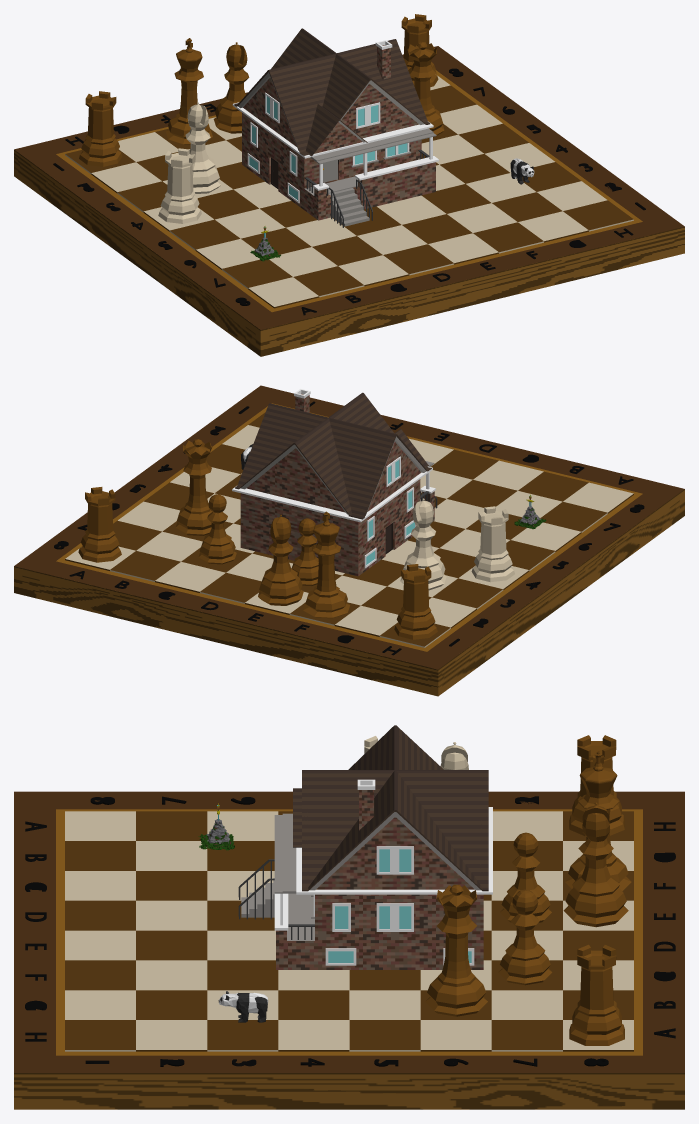
3 renders of one model, top to bottom at view 1: azimuth 30°, elevation 25°; view 2: azimuth 150°, elevation 25°; view 3: azimuth 270°, elevation 25°, orthographic. The views are drawn at different scales.
Visible parts, largest first — view 1: Cube.002, Cube.117; view 2: Cube.002, Cube.117; view 3: Cube.002, Cube.117, ANIMAL_PANDA, OBJRANDOM_SWORD_IN_THE_STONE.
Boxes of the visible parts, x1,y1,x2,y2 form: Cube.002: [14, 14, 684, 356]; Cube.117: [232, 28, 438, 227]; Cube.002: [14, 385, 684, 696]; Cube.117: [232, 389, 437, 576]; Cube.002: [14, 735, 684, 1109]; Cube.117: [238, 725, 492, 969]; ANIMAL_PANDA: [218, 991, 268, 1022]; OBJRANDOM_SWORD_IN_THE_STONE: [198, 803, 234, 850].
Size of the model in its own units: 3981 by 1484 by 4012.
29 materials, 3 textured.
